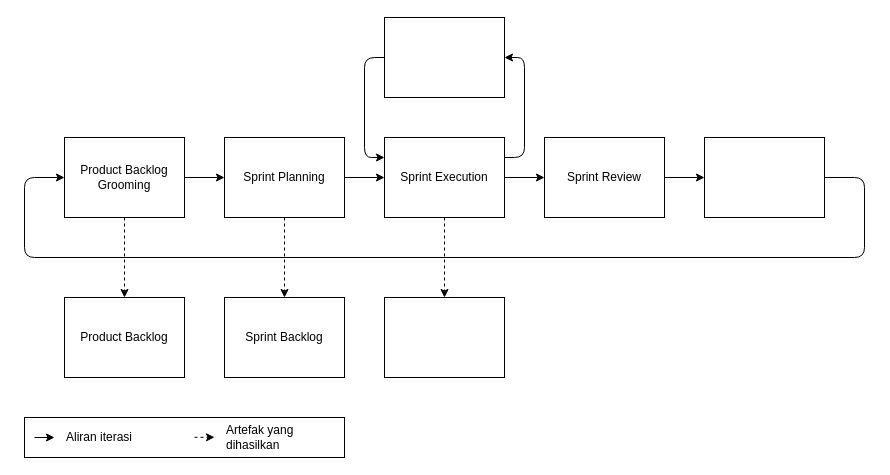
This 890x475 diagram has some shape labels left out. The shapes that lost their labels are listed below. From the top down, each one's centre as x and y in pixels, then its label:
At (444,57): "Daily Scrum".
At (764,177): "Sprint Retrospective".
At (444,337): "Increment".
